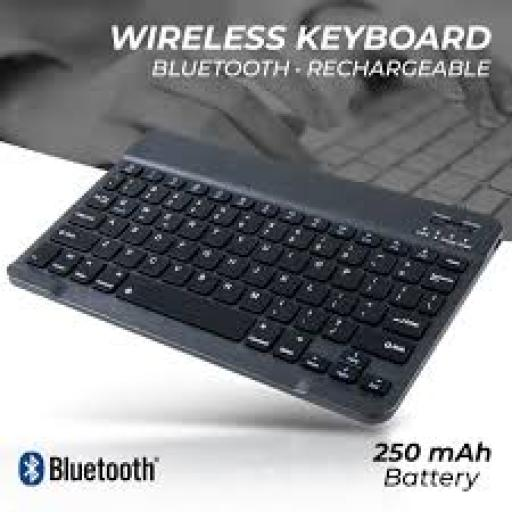keyboard: (7, 132, 501, 421)
